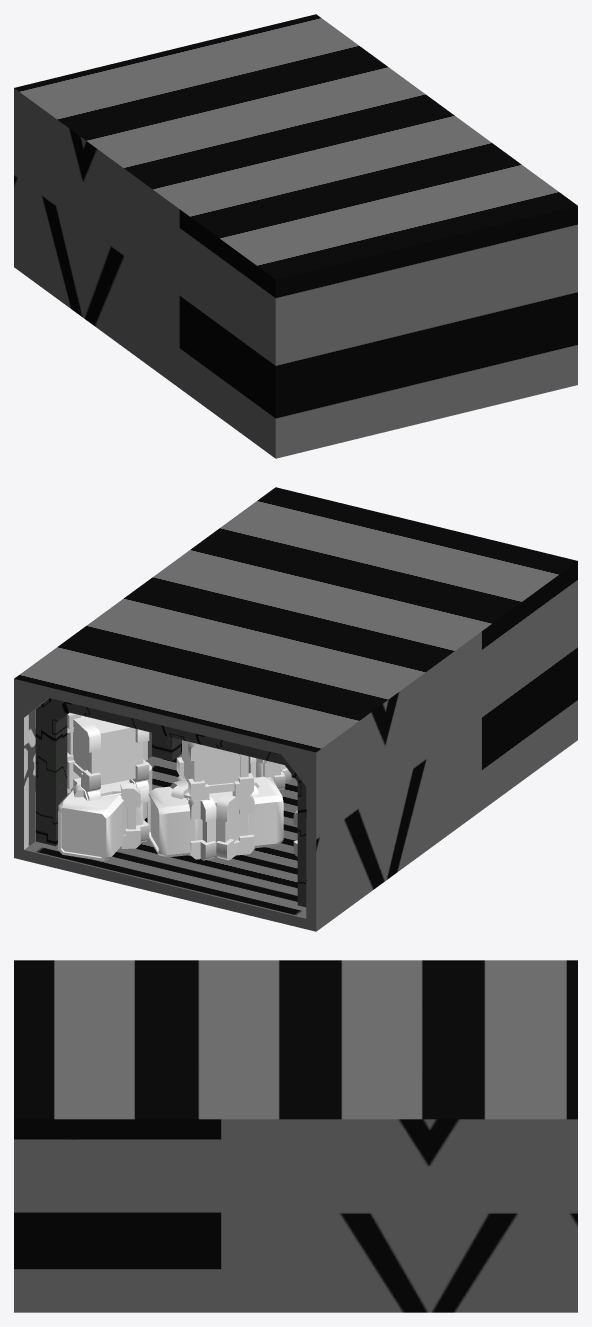
File: BackRoom.fbx
3 views of the same model, one above another, from view 1: azimuth 30°, elevation 25°; view 2: azimuth 150°, elevation 25°; view 3: azimuth 270°, elevation 25° (orthographic). The views are drawn at different scales.
Parts seen in each view (by area): view 1: BackRoom; view 2: BackRoom, LayOut006, LayOut003, LayOut001, LayOut004, LayOut005, LayOut002; view 3: BackRoom.
Boxes of the visible parts, bbox=[...] form: BackRoom: bbox=[14, 14, 577, 458]; BackRoom: bbox=[14, 487, 577, 931]; LayOut006: bbox=[67, 712, 285, 859]; LayOut003: bbox=[58, 760, 273, 860]; LayOut001: bbox=[101, 762, 283, 857]; LayOut004: bbox=[73, 756, 297, 860]; LayOut005: bbox=[80, 758, 268, 842]; LayOut002: bbox=[176, 776, 297, 859]; BackRoom: bbox=[14, 960, 577, 1312].
Size of the model in its own units: 6 by 3.4 by 9.
